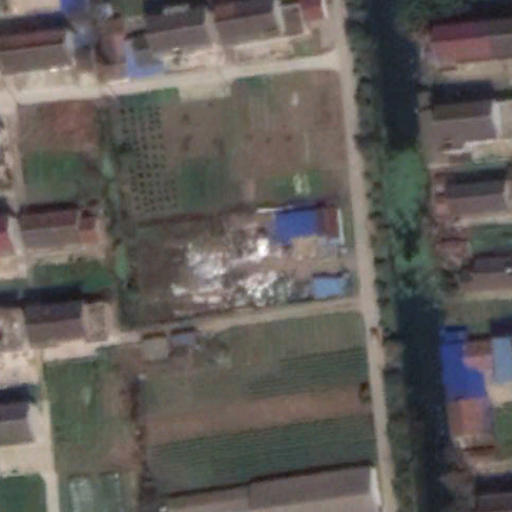msw: (182, 229, 305, 309)
